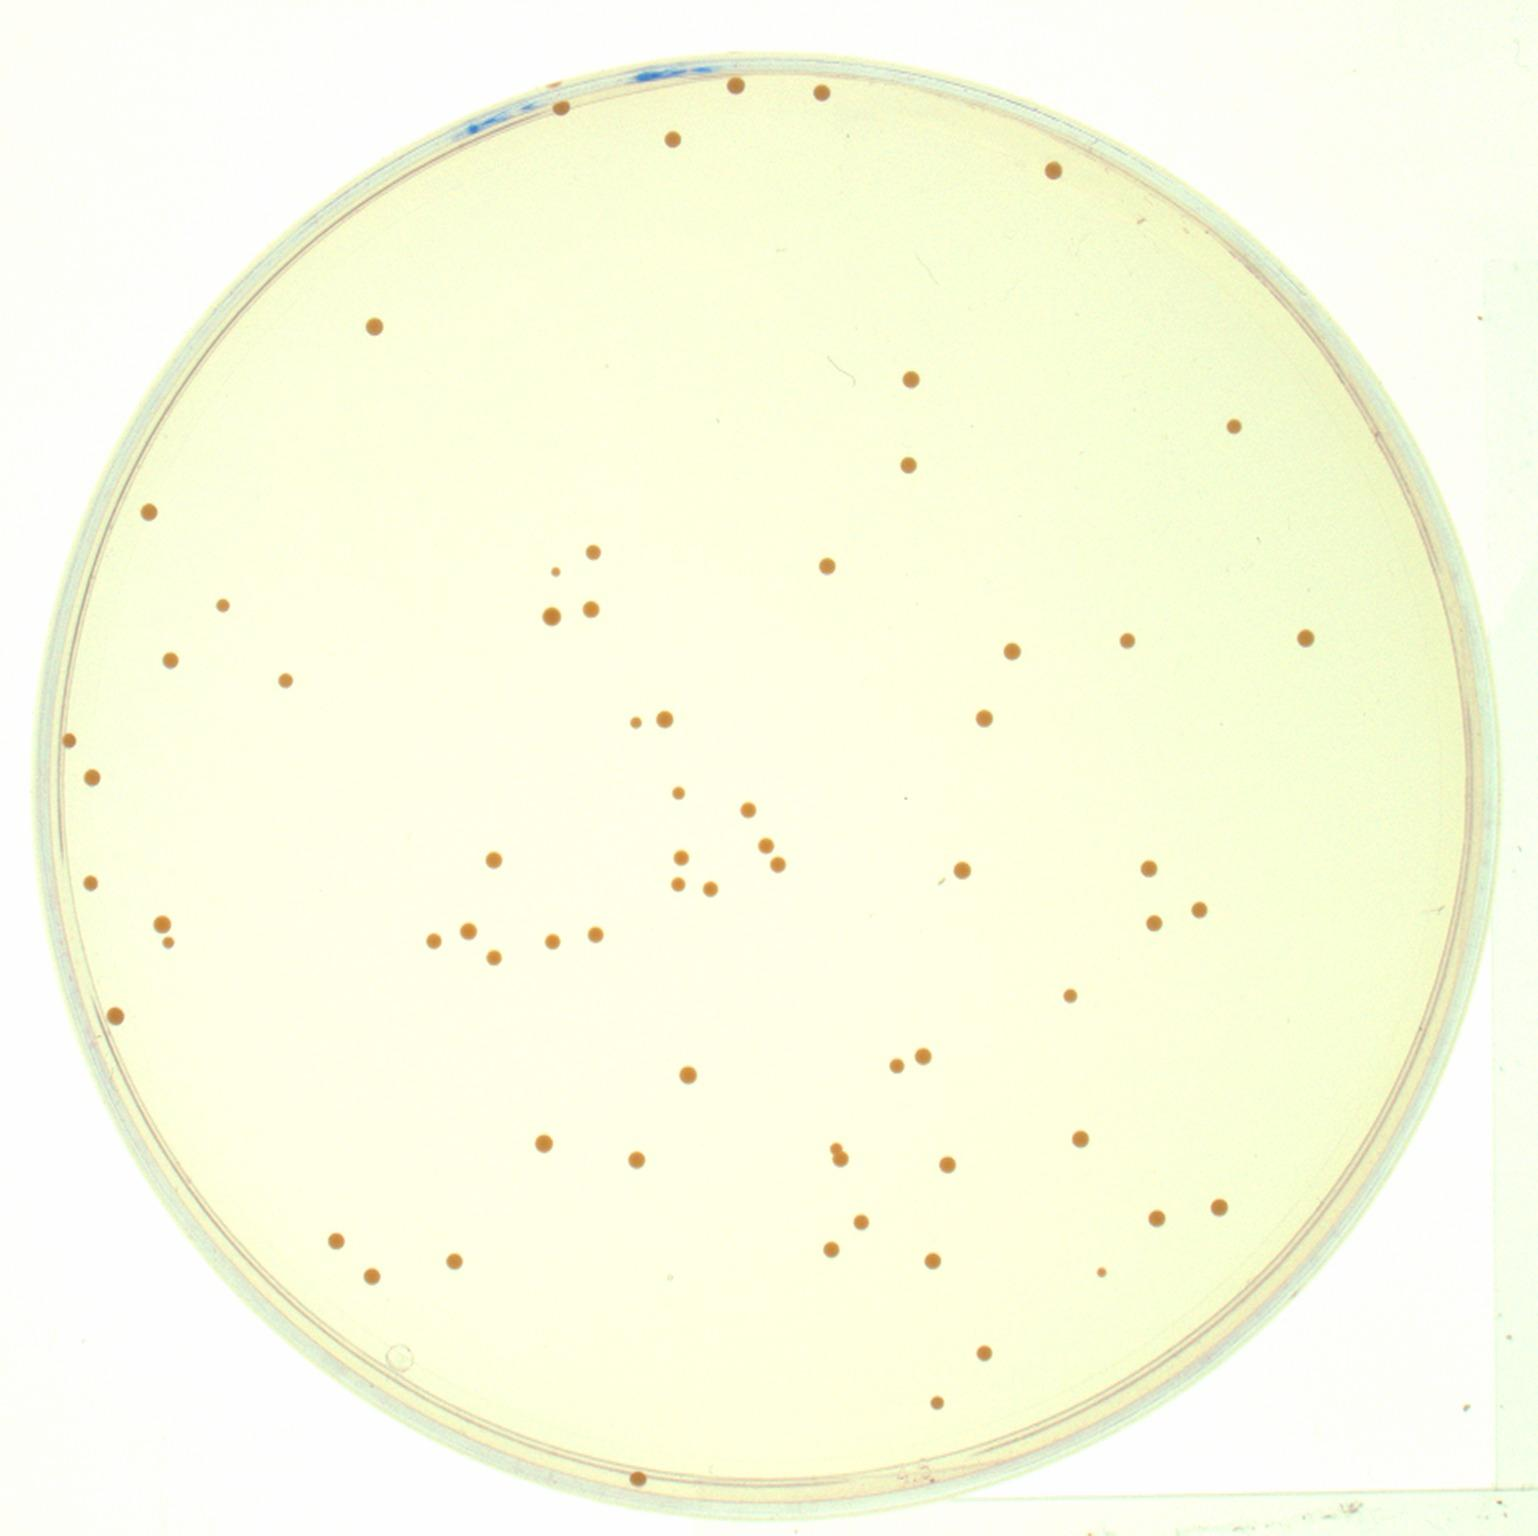colony: (805, 77, 834, 105), (719, 73, 750, 98), (971, 706, 996, 733), (539, 603, 563, 630), (1041, 158, 1065, 184), (660, 127, 685, 151), (455, 919, 480, 942), (626, 1467, 652, 1491), (625, 1148, 649, 1172), (532, 1131, 556, 1155), (360, 1263, 383, 1288), (549, 96, 573, 118), (212, 594, 235, 617), (136, 501, 159, 525), (580, 596, 601, 622), (421, 931, 446, 952), (443, 1249, 464, 1274), (82, 765, 103, 789), (158, 650, 182, 671), (363, 315, 384, 339), (898, 370, 922, 391), (1138, 857, 1159, 881), (1069, 1127, 1091, 1151), (540, 930, 563, 951), (677, 1063, 698, 1086), (951, 859, 972, 882), (934, 1153, 957, 1175), (149, 914, 173, 934), (1002, 640, 1022, 664), (1144, 911, 1164, 935), (653, 709, 674, 730), (483, 850, 504, 871), (104, 1004, 125, 1025), (912, 1045, 933, 1066), (1209, 1197, 1230, 1218), (59, 729, 79, 751), (1117, 630, 1137, 653), (701, 878, 720, 899), (326, 1229, 346, 1250), (898, 454, 917, 475), (1060, 986, 1079, 1007), (922, 1249, 941, 1270), (1296, 627, 1316, 648), (1223, 416, 1244, 436), (819, 556, 839, 577), (830, 1151, 851, 1170), (584, 540, 602, 563), (587, 921, 605, 944), (671, 848, 691, 868), (885, 1055, 905, 1075), (737, 800, 757, 820), (851, 1212, 871, 1232), (80, 873, 101, 892), (276, 670, 294, 691), (1145, 1210, 1167, 1228), (768, 854, 787, 875), (668, 875, 688, 893), (484, 948, 502, 968), (1190, 900, 1210, 919), (756, 837, 775, 855), (822, 1241, 841, 1259), (626, 715, 644, 733), (975, 1343, 993, 1362), (670, 782, 687, 800), (929, 1394, 946, 1412), (159, 933, 176, 949), (827, 1139, 844, 1156), (546, 563, 564, 578), (1095, 1265, 1107, 1280)
